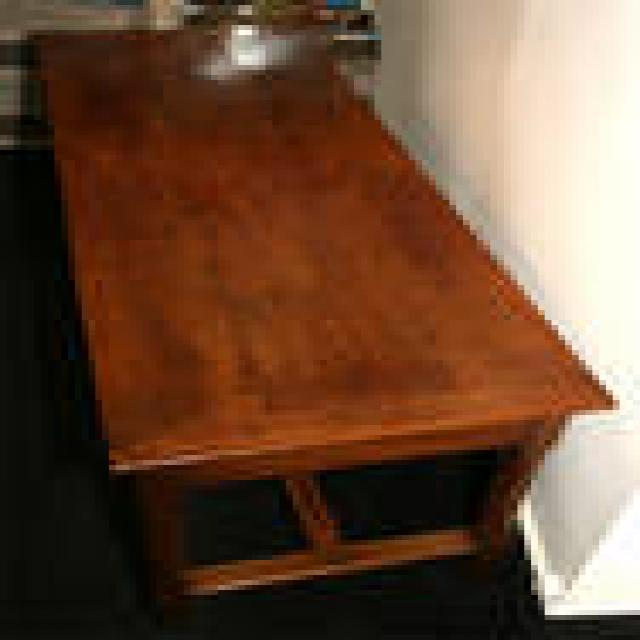table: (21, 24, 616, 599)
